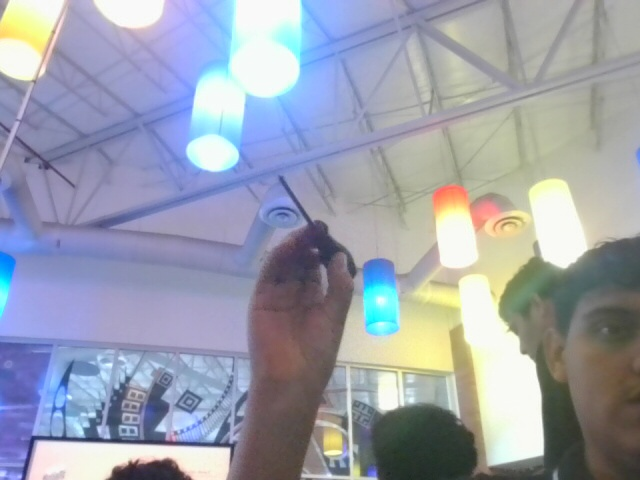destornillador: (278, 176, 355, 277)
